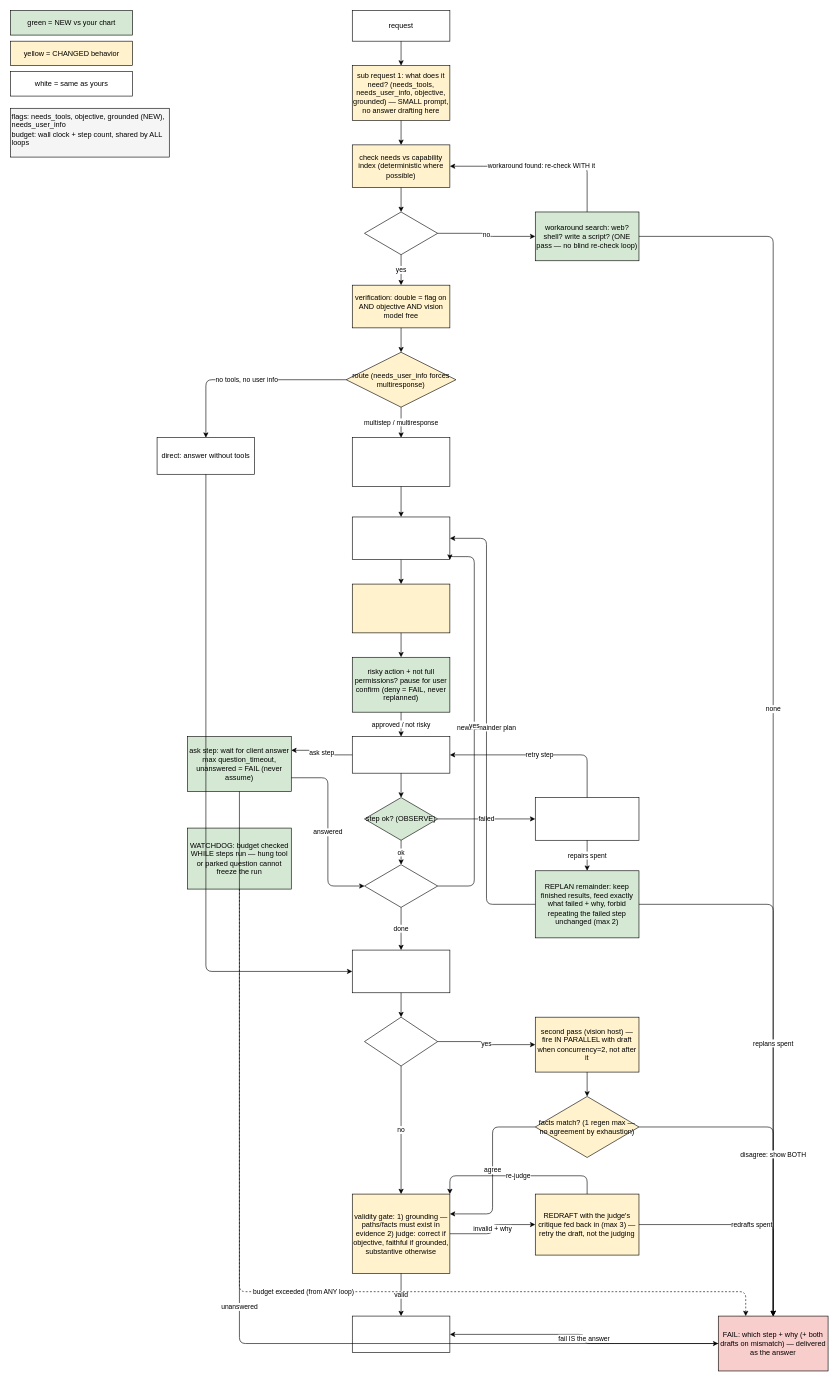
Some shapes in this 839 by 1382 pixel diagram are drawn without their labels. The shapes that lost their labels are listed below. From the top down, each one's centre as x and y in pixels, then its label:
[401,233]: feasible?
[401,461]: sub request: plan DAG of steps (ask steps included when multiresponse)
[401,538]: next ready step (independent steps run in parallel)
[401,608]: bind tool args NOW, from upstream step results (not at plan time)
[401,754]: run tool / pose question
[587,818]: repair args with the error + prior results (max 3)
[401,885]: more steps?
[401,971]: draft answer (compose from step results ONLY)
[401,1041]: double AND objective?
[401,1334]: submit final answer
